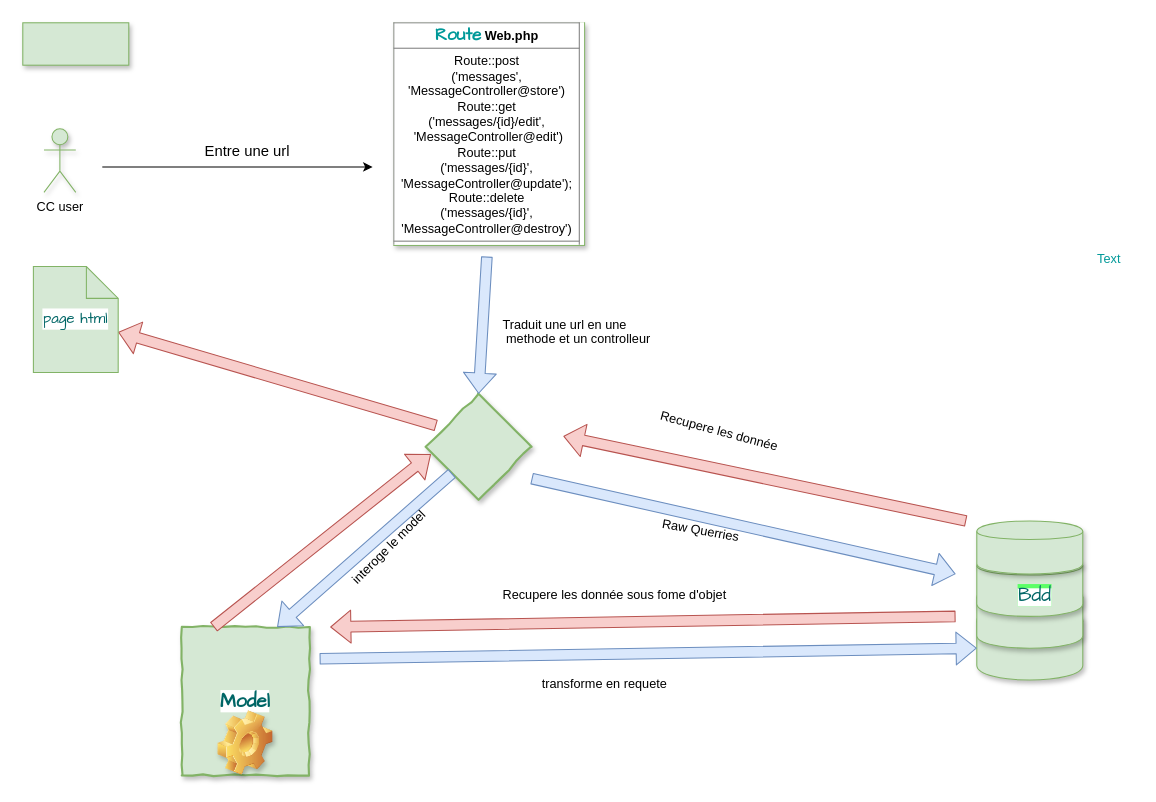
The diagram is 1156 pixels wide and 802 high, and some of its shapes have lost their labels. Each missing label, with the centre of its shape:
"controller" belongs at [479,448].
"Mvc" belongs at [76,45].
